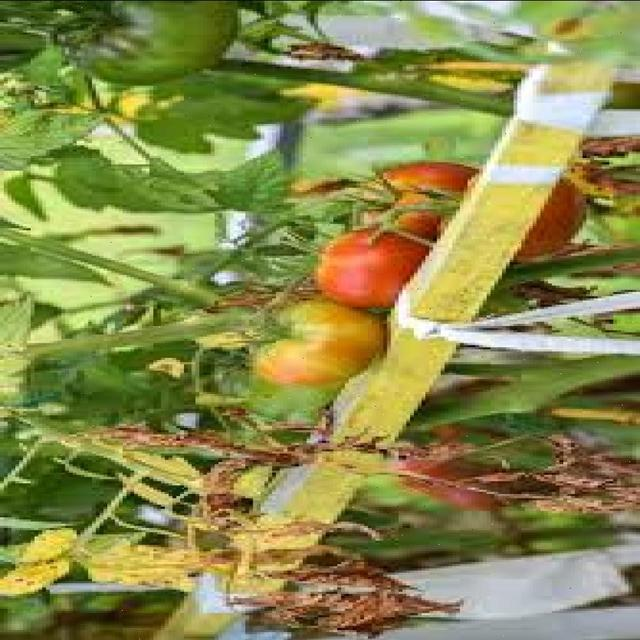Spotted wilt Virus Fruit: (73, 52, 267, 227)
